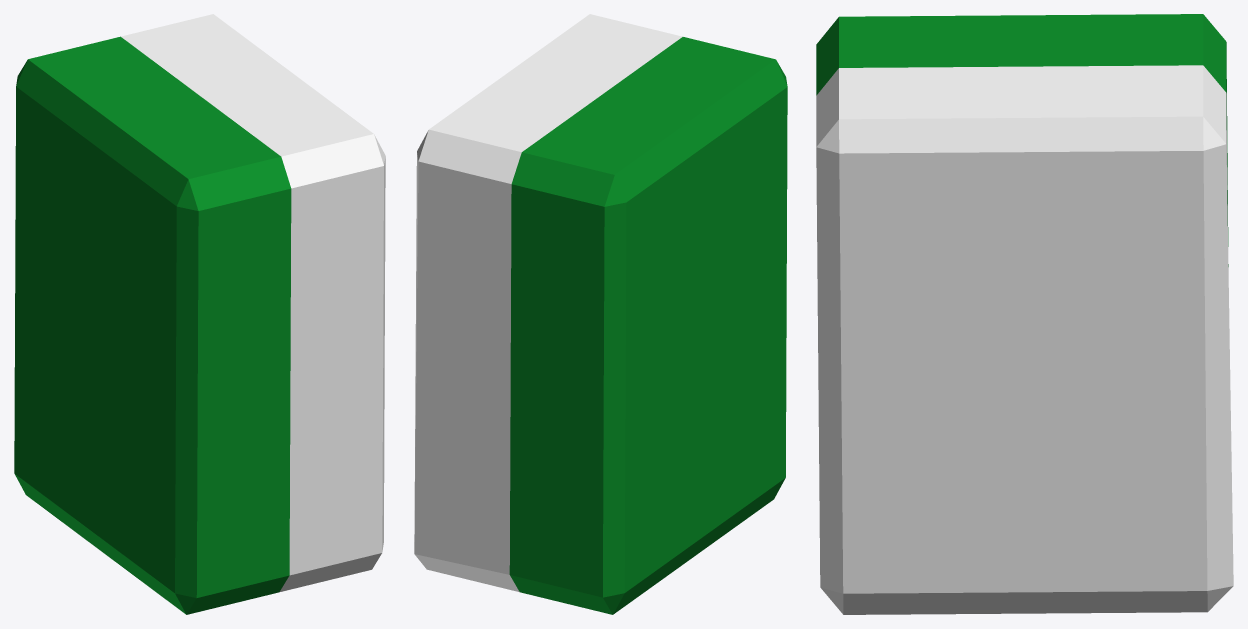
File: 麻将模版.glb
3 renders of one model, left to right at view 1: azimuth 30°, elevation 25°; view 2: azimuth 150°, elevation 25°; view 3: azimuth 270°, elevation 25°, orthographic. The views are drawn at different scales.
Parts seen in each view (by area): view 1: 立方体; view 2: 立方体; view 3: 立方体.
Part boxes in pixels (x1,y1,x2,y2): 立方体: (14,14,385,614); 立方体: (414,14,787,614); 立方体: (816,14,1233,614).
Bounding box in the file's own units: 0.08 × 0.1609 × 0.1221.
